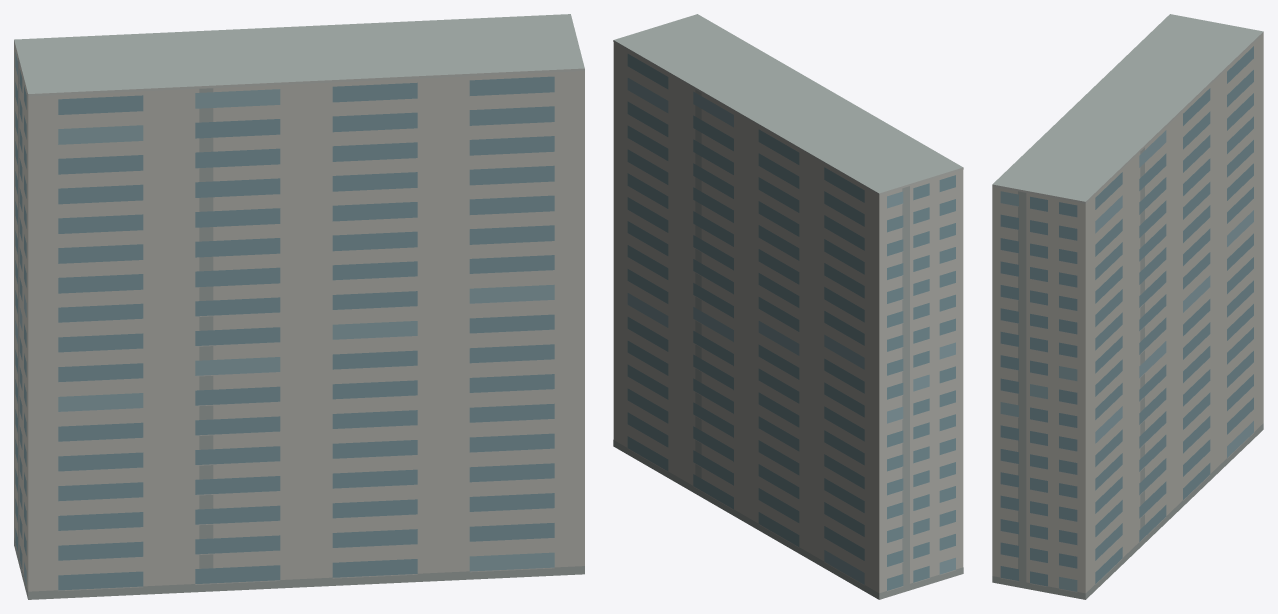
Rendered from residential-9ddfdd0e-55f7-43dd-a97c-dcbfa07b5dcb.glb.
The picture shows the model from 3 angles, left to right: view 1: azimuth 30°, elevation 25°; view 2: azimuth 150°, elevation 25°; view 3: azimuth 270°, elevation 25°; orthographic projection. The views are drawn at different scales.
Visible parts, largest first — view 1: residential-9ddfdd0e-55f7-43dd-a97c-dcbfa07b5dcb.tmp; view 2: residential-9ddfdd0e-55f7-43dd-a97c-dcbfa07b5dcb.tmp; view 3: residential-9ddfdd0e-55f7-43dd-a97c-dcbfa07b5dcb.tmp.
Boxes of the visible parts, <box> form: residential-9ddfdd0e-55f7-43dd-a97c-dcbfa07b5dcb.tmp: <box>14,14,584,599</box>; residential-9ddfdd0e-55f7-43dd-a97c-dcbfa07b5dcb.tmp: <box>613,14,963,599</box>; residential-9ddfdd0e-55f7-43dd-a97c-dcbfa07b5dcb.tmp: <box>992,14,1263,599</box>.
Bounding box in the file's own units: 48.58 × 48 × 29.67.
